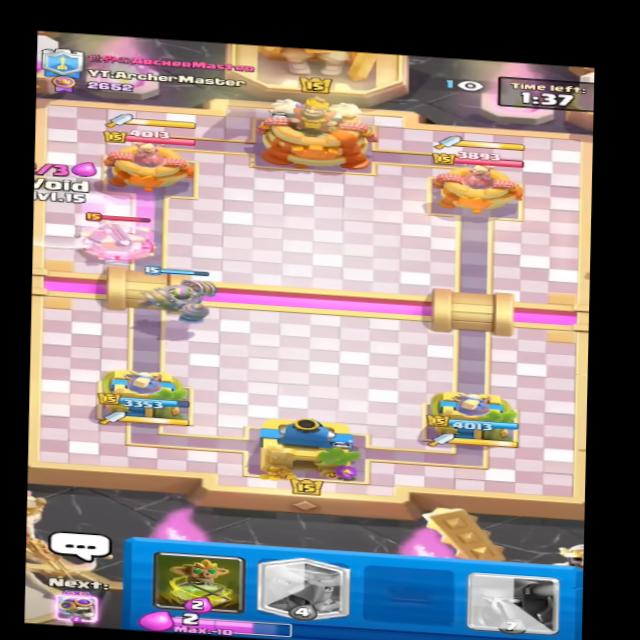x-bow: (75, 210, 169, 269)
